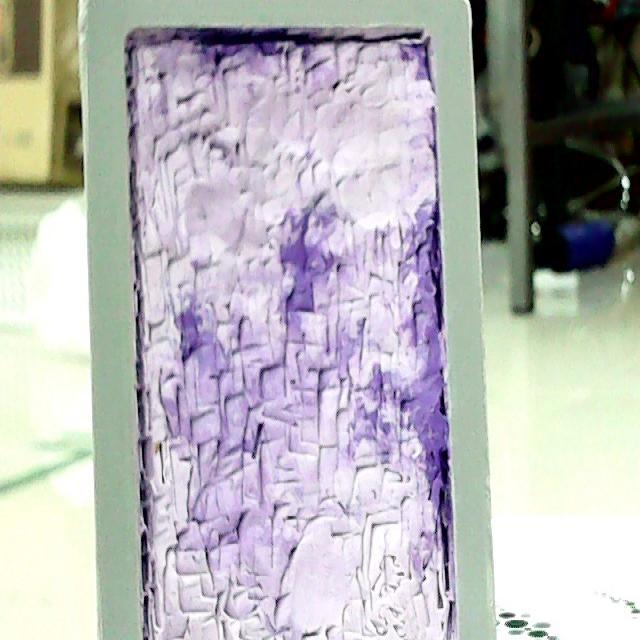block: (75, 3, 503, 632)
